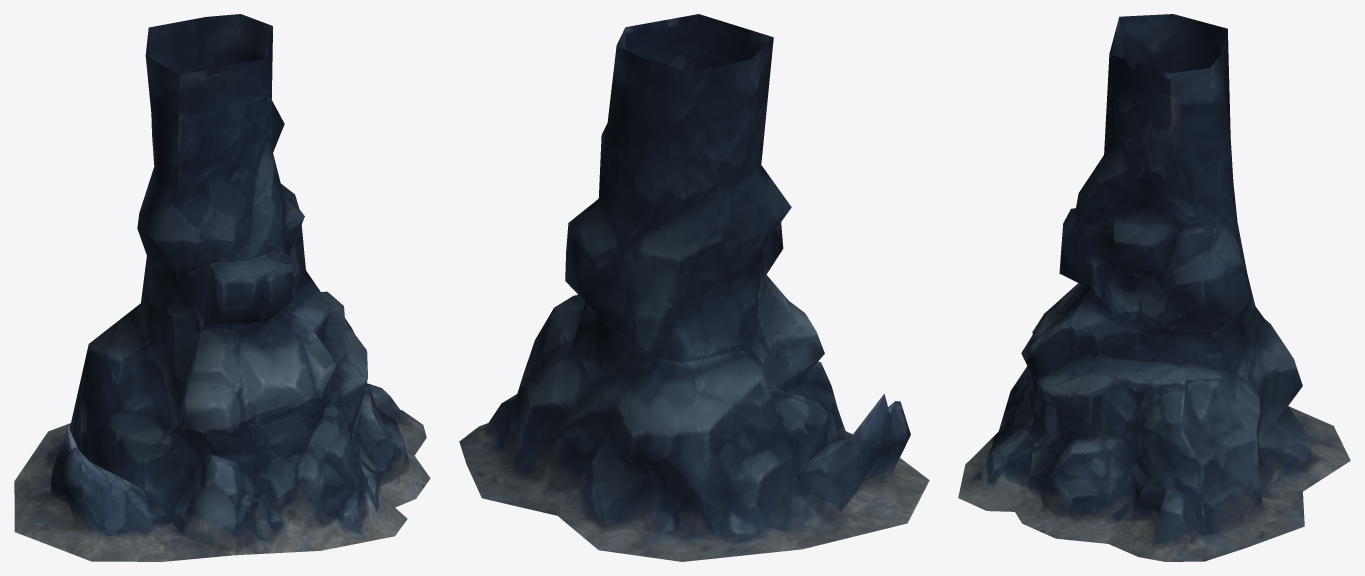
File: Area_01_15.fbx
3 renders of one model, left to right at view 1: azimuth 30°, elevation 25°; view 2: azimuth 150°, elevation 25°; view 3: azimuth 270°, elevation 25°, orthographic. The views are drawn at different scales.
Parts seen in each view (by area): view 1: Area_01_15; view 2: Area_01_15; view 3: Area_01_15.
Boxes of the visible parts, x1=… form: Area_01_15: x1=14, y1=14, x2=430, y2=561; Area_01_15: x1=459, y1=14, x2=929, y2=561; Area_01_15: x1=958, y1=14, x2=1350, y2=561.
Size of the model in its own units: 2669 by 2651 by 2253.
